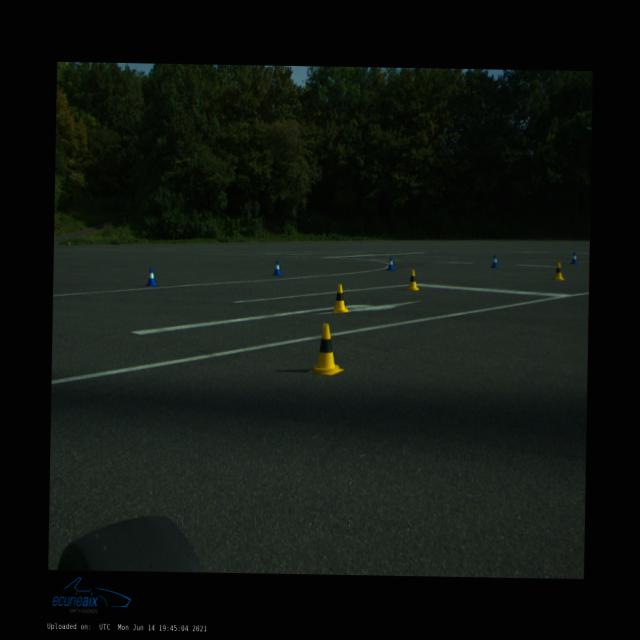blue_cone: (145, 266, 157, 286), (386, 256, 396, 270), (272, 260, 282, 274), (490, 254, 498, 267), (570, 252, 578, 264)
yellow_cone: (309, 322, 344, 374), (332, 284, 349, 312), (406, 269, 418, 290), (552, 262, 564, 280)
